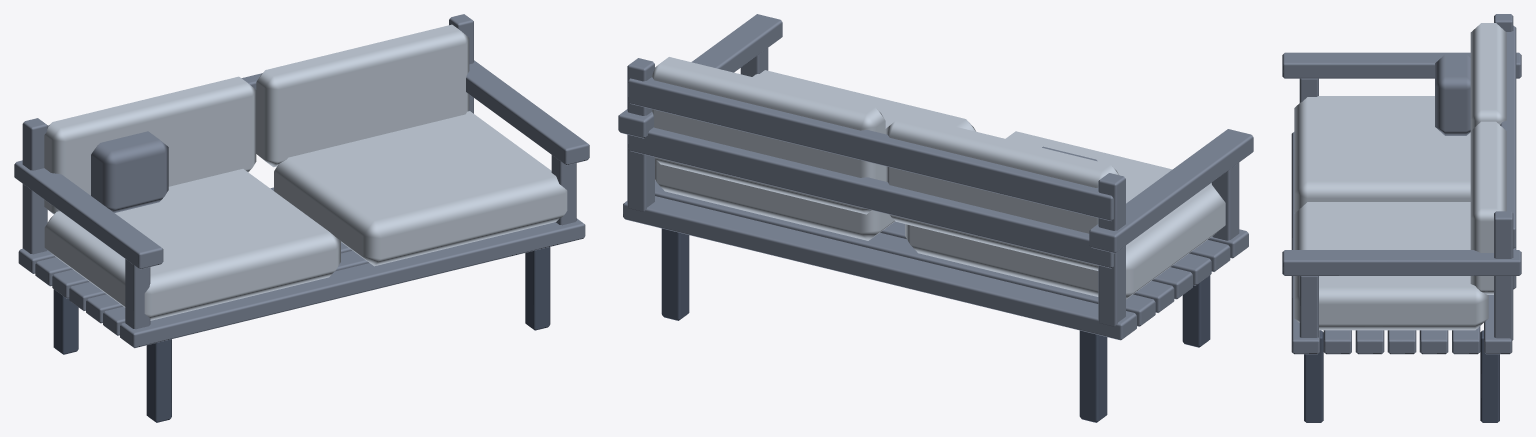
File: 户外双人沙发-lite.glb
3 renders of one model, left to right at view 1: azimuth 30°, elevation 25°; view 2: azimuth 150°, elevation 25°; view 3: azimuth 270°, elevation 25°, orthographic. The views are drawn at different scales.
Parts seen in each view (by area): view 1: garden-outdoor-sofa; view 2: garden-outdoor-sofa; view 3: garden-outdoor-sofa.
Part boxes in pixels (x1,y1,x2,y2): garden-outdoor-sofa: (14, 14, 589, 422); garden-outdoor-sofa: (618, 14, 1253, 422); garden-outdoor-sofa: (1282, 14, 1521, 422).
Size of the model in its own units: 1.7 by 0.82 by 0.82.
